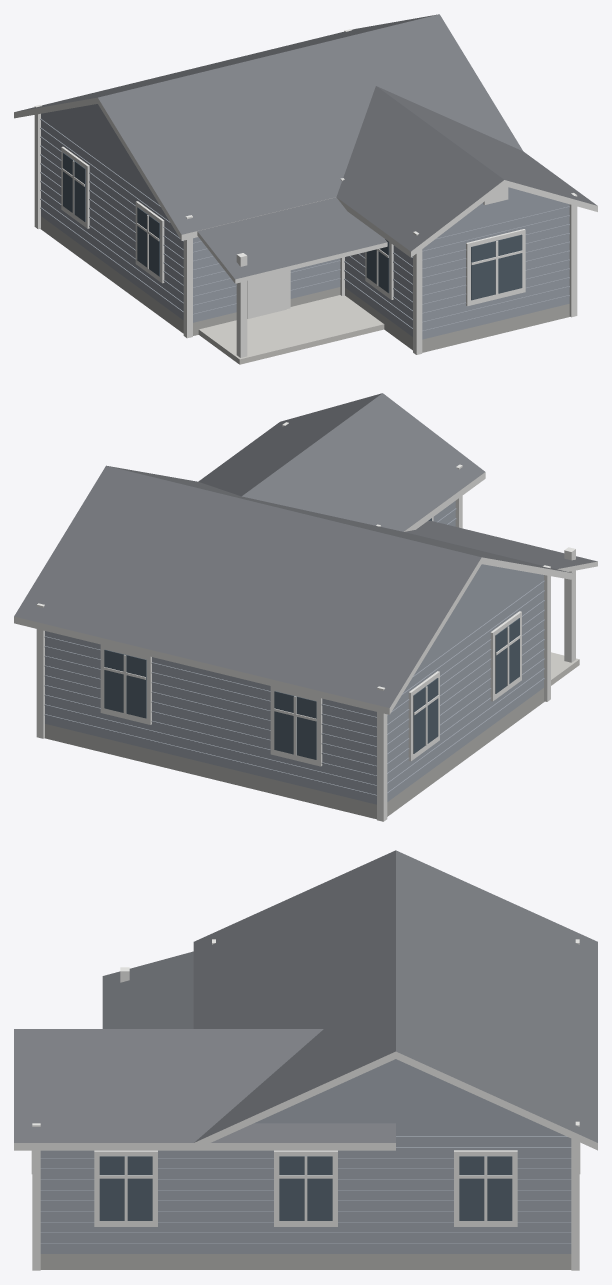
File: plum-cottage.glb
The picture shows the model from 3 angles, top to bottom: view 1: azimuth 30°, elevation 25°; view 2: azimuth 150°, elevation 25°; view 3: azimuth 270°, elevation 25°; orthographic projection. The views are drawn at different scales.
Visible parts, largest first — view 1: The Plum (cottage); view 2: The Plum (cottage); view 3: The Plum (cottage).
Boxes of the visible parts, <box> form: The Plum (cottage): <box>14,14,597,364</box>; The Plum (cottage): <box>14,393,597,821</box>; The Plum (cottage): <box>14,850,597,1270</box>.
Size of the model in its own units: 8.08 by 4.27 by 9.9.
